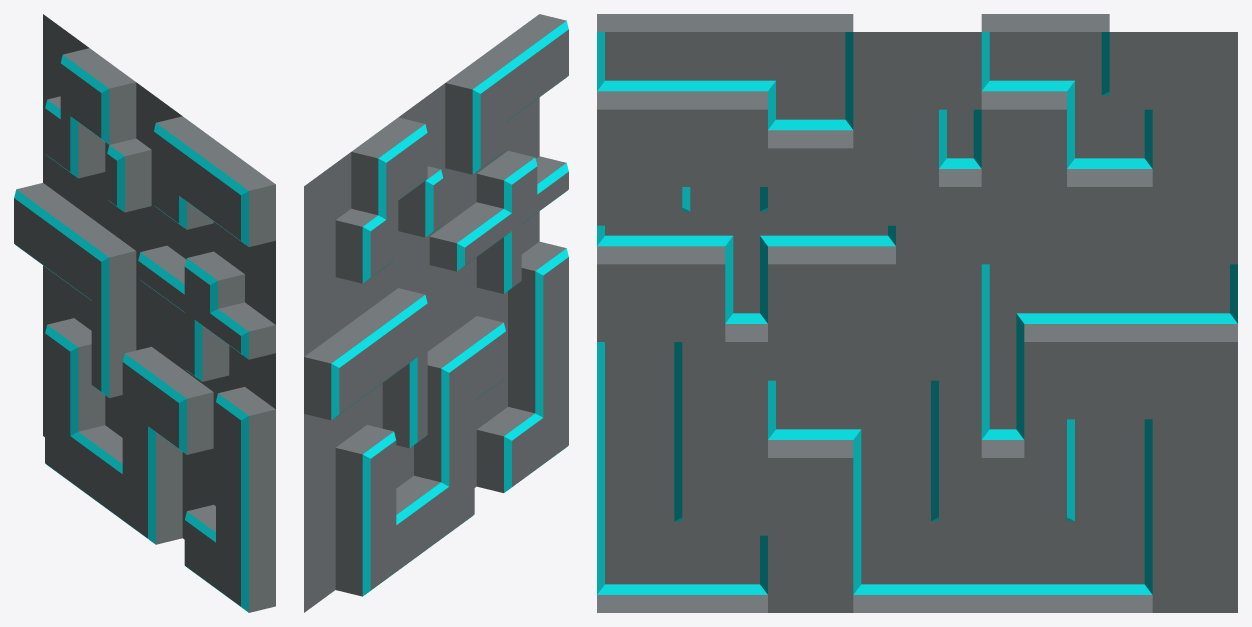
The model's file is left.fbx.
3 renders of one model, left to right at view 1: azimuth 30°, elevation 25°; view 2: azimuth 150°, elevation 25°; view 3: azimuth 270°, elevation 25°, orthographic. The views are drawn at different scales.
Visible parts, largest first — view 1: pCube4; view 2: pCube4; view 3: pCube4.
Part boxes in pixels (x1,y1,x2,y2): pCube4: (14,14,275,612); pCube4: (304,14,568,612); pCube4: (597,14,1237,612).
Bounding box in the file's own units: 19 × 240 × 240.
